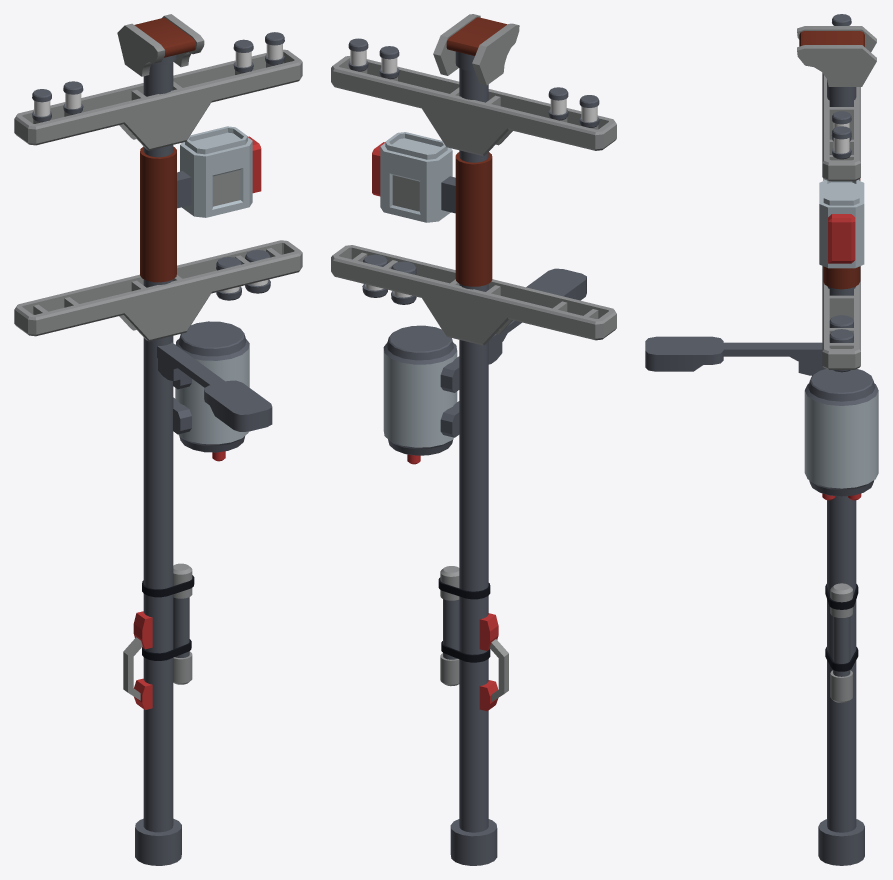
File: Eh_Stolbi.fbx
The picture shows the model from 3 angles, left to right: view 1: azimuth 30°, elevation 25°; view 2: azimuth 150°, elevation 25°; view 3: azimuth 270°, elevation 25°; orthographic projection.
Parts seen in each view (by area): view 1: Cylinder.018, Cube.017, Cube.008, Cylinder.019, Cube.018, Cylinder.043, Cube.030, Cube.016, Cylinder.023, Cylinder.022, Cylinder.040, Cylinder.021 (+2 smaller); view 2: Cylinder.018, Cube.017, Cube.008, Cylinder.019, Cube.018, Cylinder.043, Cube.016, Cylinder.023, Cylinder.022, Cube.030, Cylinder.040, Cylinder.021 (+2 smaller); view 3: Cylinder.019, Cylinder.018, Cube.030, Cube.016, Cube.018, Cube.017, Cube.008, Cylinder.022, Cylinder.040, Cube.019, Cylinder.023, Cylinder.043 (+1 smaller).
Boxes of the visible parts, x1=… form: Cylinder.018: x1=143, y1=54, x2=176, y2=832; Cube.017: x1=14, y1=240, x2=302, y2=341; Cube.008: x1=14, y1=49, x2=302, y2=150; Cylinder.019: x1=173, y1=321, x2=249, y2=452; Cube.018: x1=180, y1=126, x2=252, y2=217; Cylinder.043: x1=140, y1=146, x2=176, y2=282; Cube.030: x1=157, y1=342, x2=272, y2=431; Cube.016: x1=117, y1=14, x2=204, y2=76; Cylinder.023: x1=32, y1=32, x2=284, y2=122; Cylinder.022: x1=173, y1=563, x2=192, y2=684; Cylinder.040: x1=135, y1=818, x2=181, y2=865; Cylinder.021: x1=216, y1=250, x2=270, y2=300; Cylinder.018: x1=455, y1=51, x2=488, y2=832; Cube.017: x1=331, y1=245, x2=616, y2=345; Cube.008: x1=331, y1=56, x2=616, y2=156; Cylinder.019: x1=383, y1=325, x2=459, y2=455; Cube.018: x1=380, y1=132, x2=452, y2=222; Cylinder.043: x1=455, y1=152, x2=492, y2=286; Cube.016: x1=433, y1=14, x2=519, y2=85; Cylinder.023: x1=348, y1=38, x2=599, y2=127; Cylinder.022: x1=440, y1=566, x2=459, y2=686; Cube.030: x1=488, y1=268, x2=586, y2=364; Cylinder.040: x1=450, y1=819, x2=497, y2=865; Cylinder.021: x1=362, y1=254, x2=416, y2=304; Cylinder.019: x1=804, y1=369, x2=878, y2=496; Cylinder.018: x1=827, y1=80, x2=856, y2=832; Cube.030: x1=645, y1=336, x2=825, y2=375; Cube.016: x1=797, y1=26, x2=876, y2=86; Cube.018: x1=819, y1=179, x2=864, y2=268; Cube.017: x1=822, y1=266, x2=860, y2=369; Cube.008: x1=822, y1=73, x2=860, y2=181; Cylinder.022: x1=830, y1=583, x2=852, y2=703; Cylinder.040: x1=818, y1=819, x2=864, y2=865; Cube.019: x1=828, y1=214, x2=855, y2=263; Cylinder.023: x1=831, y1=14, x2=851, y2=159; Cylinder.043: x1=823, y1=178, x2=860, y2=289.
Size of the model in its own units: 349 by 1006 by 260.
